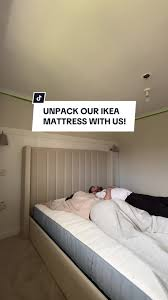bed-matress: (30, 193, 168, 299)
